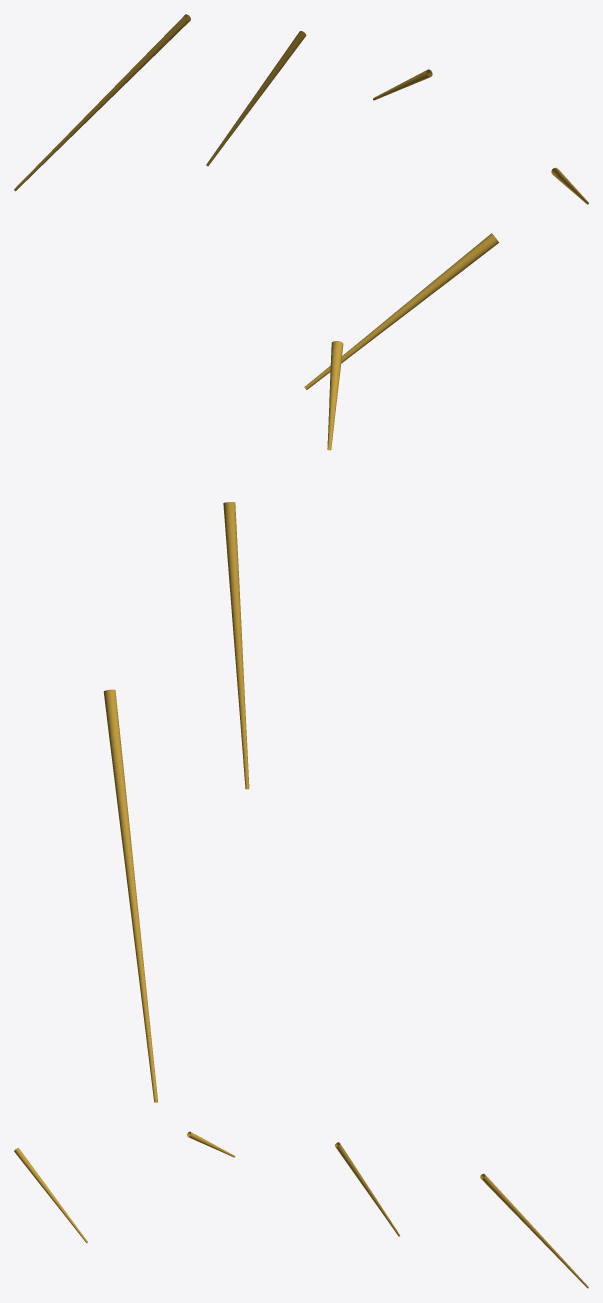
The picture shows the model from 3 angles, top to bottom: view 1: azimuth 30°, elevation 25°; view 2: azimuth 150°, elevation 25°; view 3: azimuth 270°, elevation 25°; orthographic projection. The views are drawn at different scales.
Parts seen in each view (by area): view 1: 左侧正中神经肌支; view 2: 左侧正中神经肌支; view 3: 左侧正中神经肌支.
Boxes of the visible parts, x1,y1,x2,y2 form: 左侧正中神经肌支: (14, 14, 588, 204); 左侧正中神经肌支: (103, 233, 498, 1102); 左侧正中神经肌支: (14, 1131, 588, 1288).
Size of the model in its own units: 0.0299 by 0.0337 by 0.0839.
